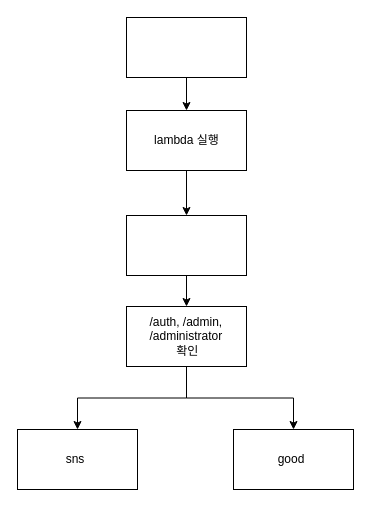
Image size: 371x507. Some labels were removed from this diagram. Here are the shapes that lost their labels. From the top down, the centre of each, then its label:
the point at 186,47: log 올라옴
the point at 186,245: 최신 log 조회
